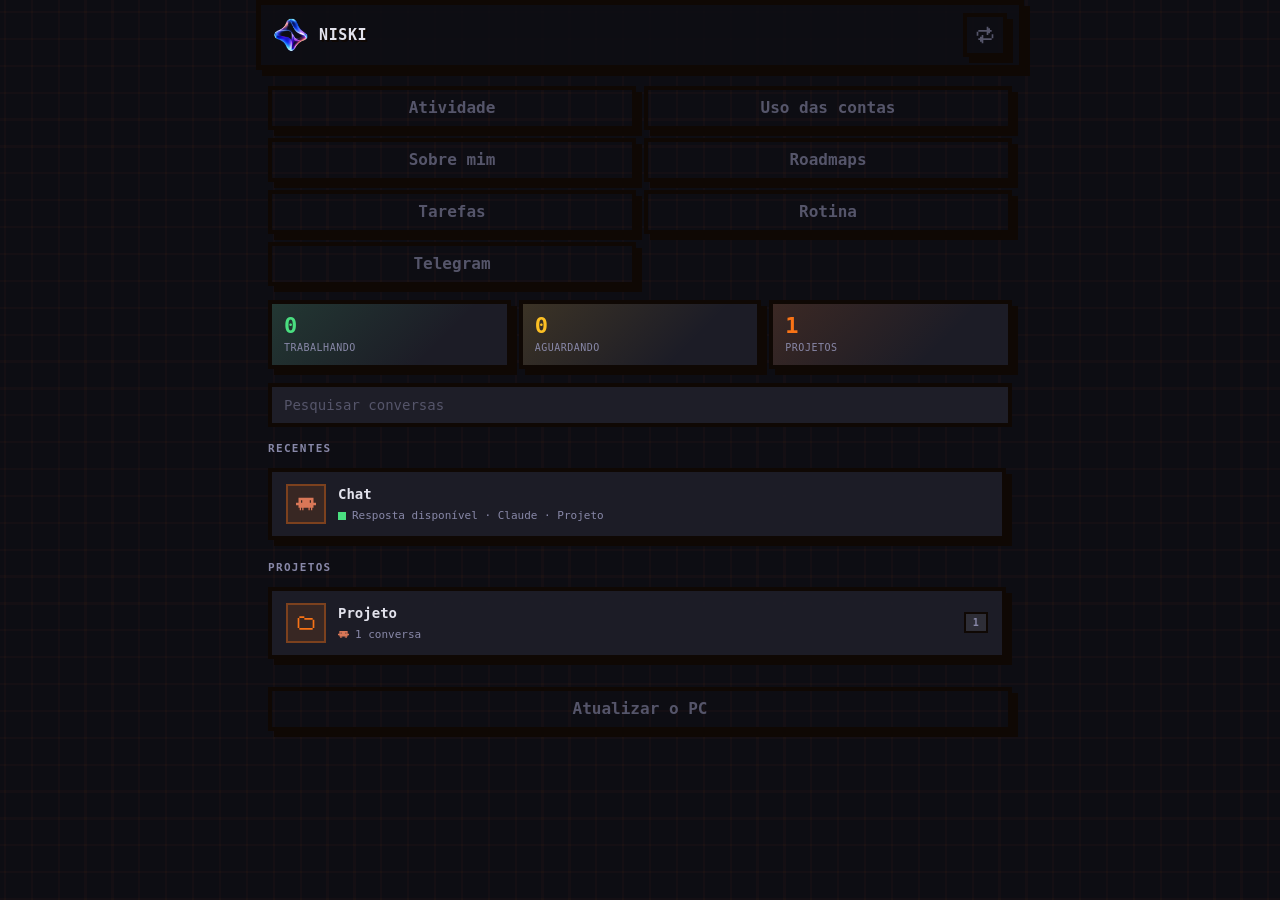
prompt recusado pela fila some do chat e diz o motivo
Click the button with aria-label "Abrir projeto": click(306, 623) [268,587,1006,659]
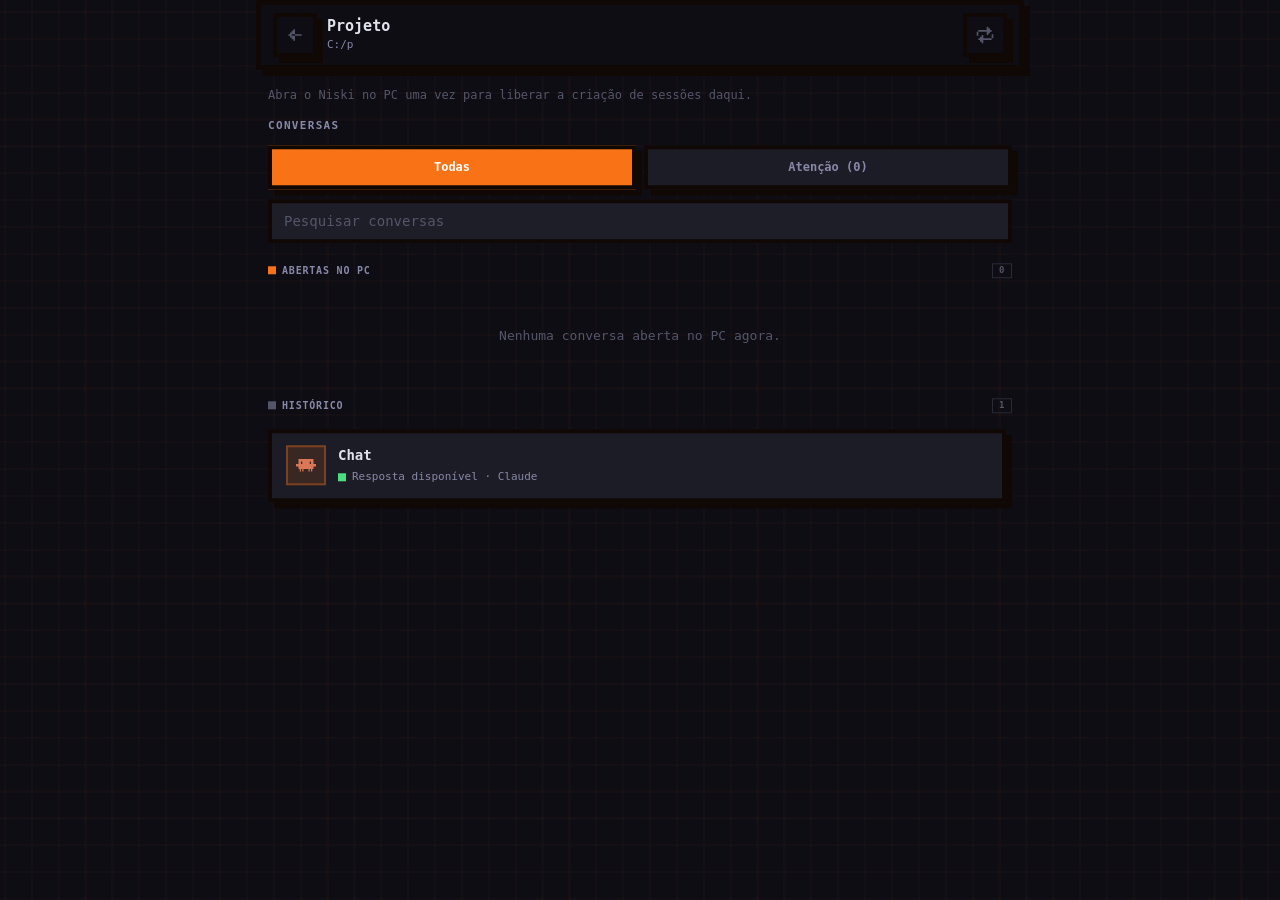
Click the button with aria-label "Abrir conversa": click(306, 465) [268,429,1006,502]
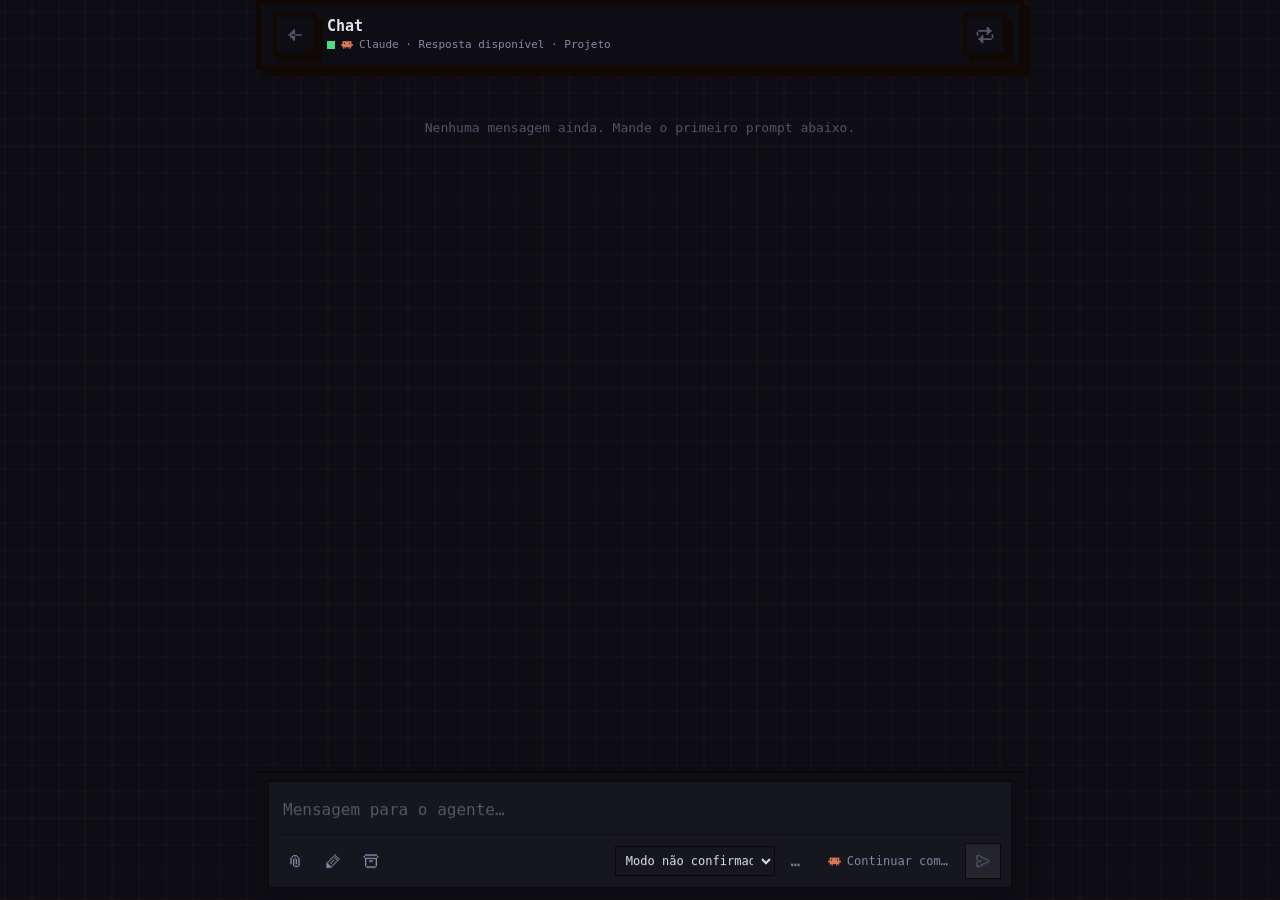
In the text box named "Sua resposta": (640, 810) [279,792,1001,828], type "vai falhar"
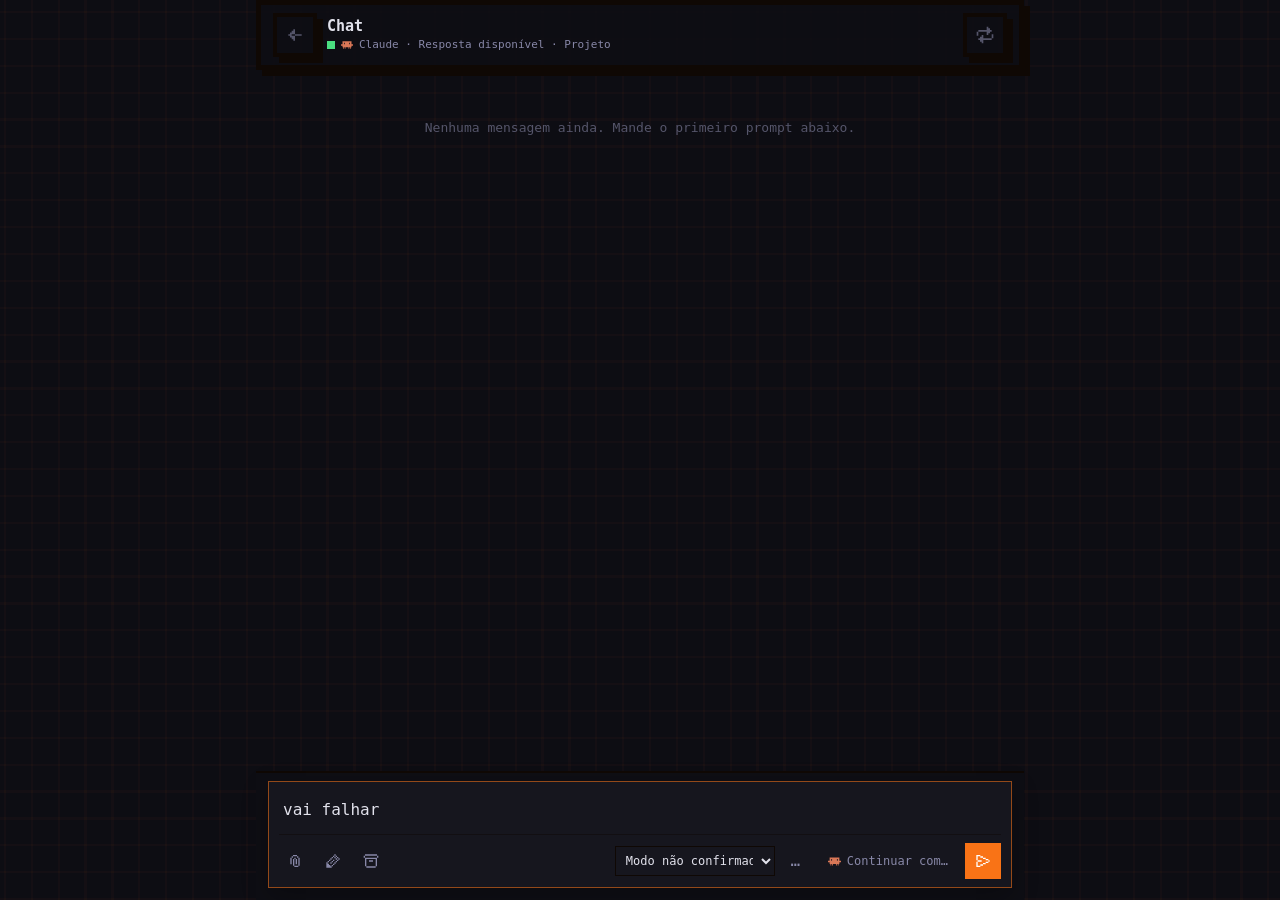
Click the button named "Enviar resposta": click(983, 861) [965,843,1001,879]
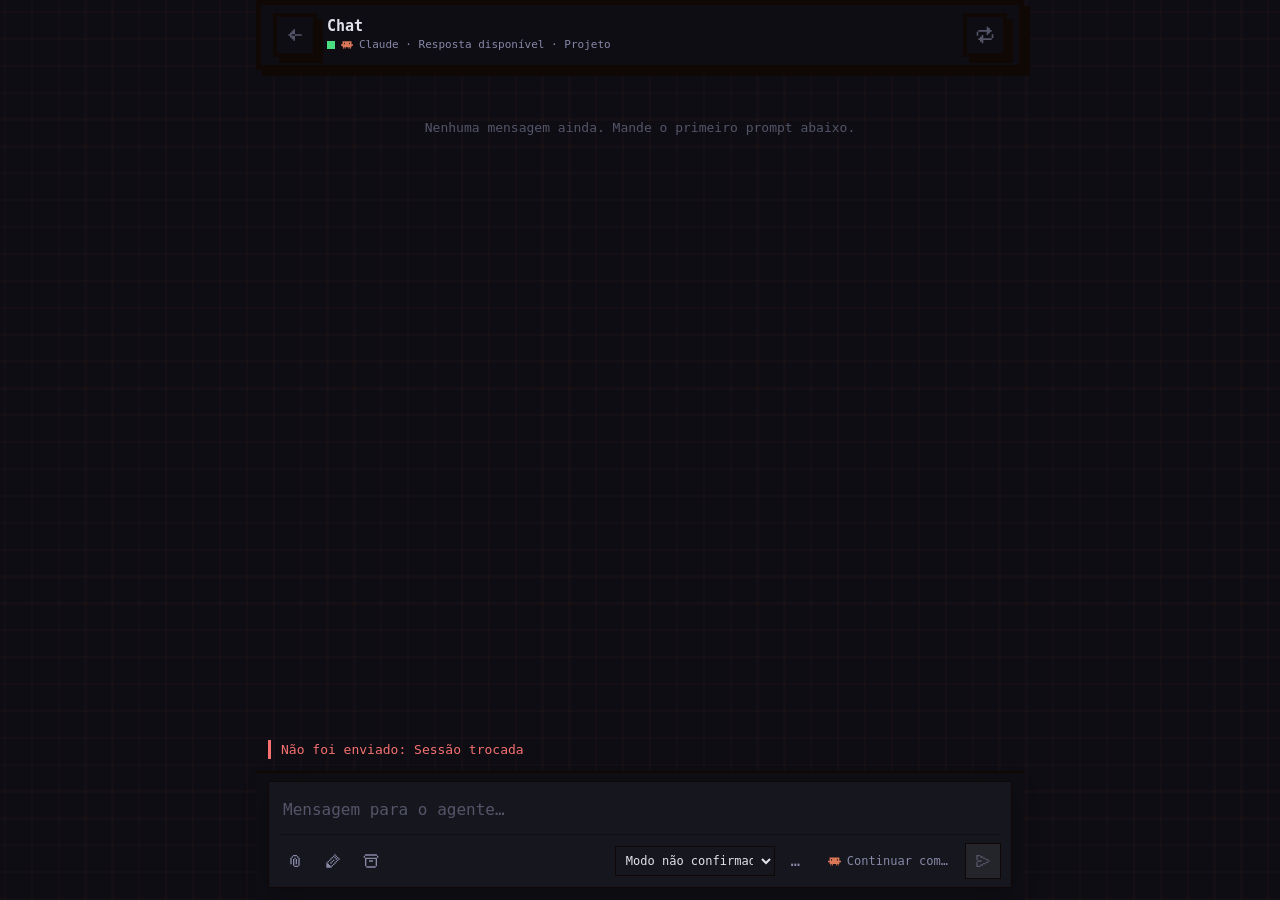
Expected: the text "vai falhar" is not shown
Result: the text "Não foi enviado: Sessão trocada" is shown at [268,740,1012,759]
